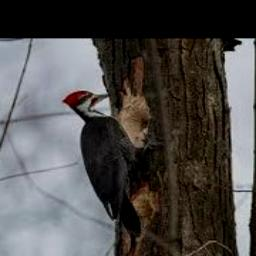Woodpecker: (63, 90, 155, 255)
